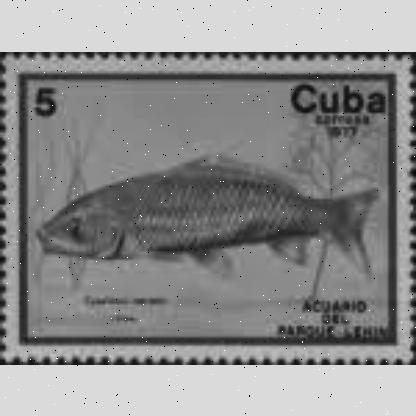ikan-mas: (42, 151, 378, 269)
